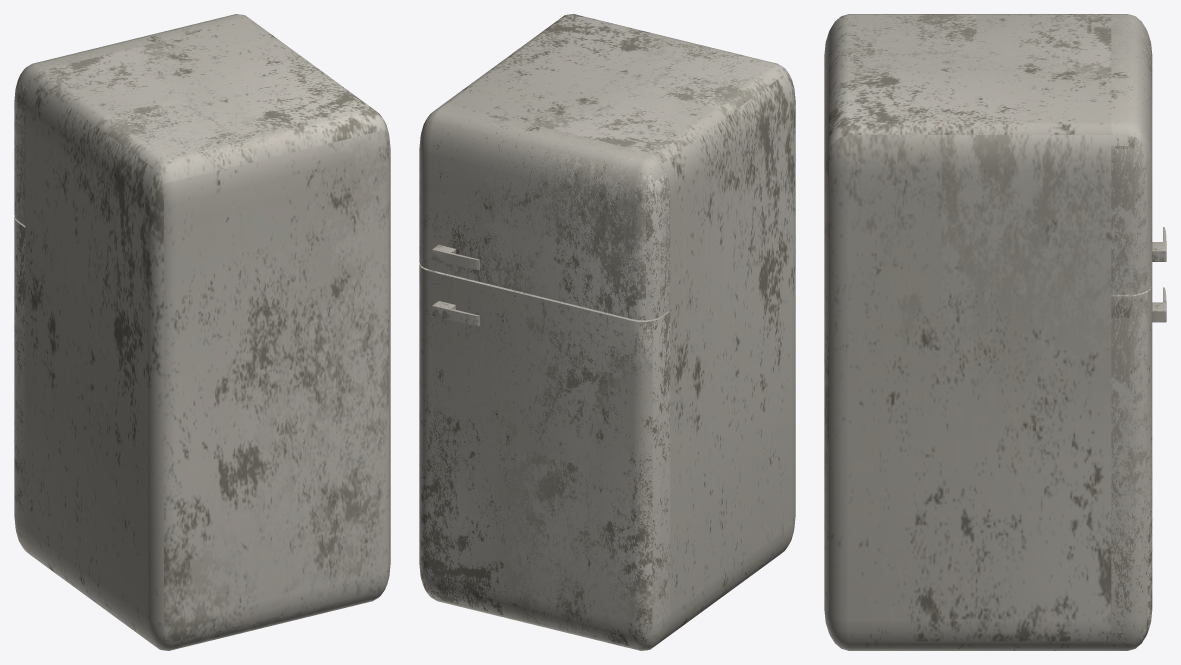
File: fridge.obj
The picture shows the model from 3 angles, left to right: view 1: azimuth 30°, elevation 25°; view 2: azimuth 150°, elevation 25°; view 3: azimuth 270°, elevation 25°; orthographic projection. The views are drawn at different scales.
Parts seen in each view (by area): view 1: fridge, door_1, door_2; view 2: fridge, door_2, door_1; view 3: fridge, door_2, door_1.
Part boxes in pixels (x1,y1,x2,y2): fridge: (25, 20, 390, 650); door_1: (14, 14, 251, 225); door_2: (14, 216, 35, 558); fridge: (443, 14, 795, 642); door_2: (419, 263, 670, 650); door_1: (419, 104, 670, 320); fridge: (824, 14, 1111, 650); door_2: (1111, 285, 1166, 650); door_1: (1111, 14, 1166, 294).
Size of the model in its own units: 1 by 1.96 by 1.15.
1 material, 1 textured.
